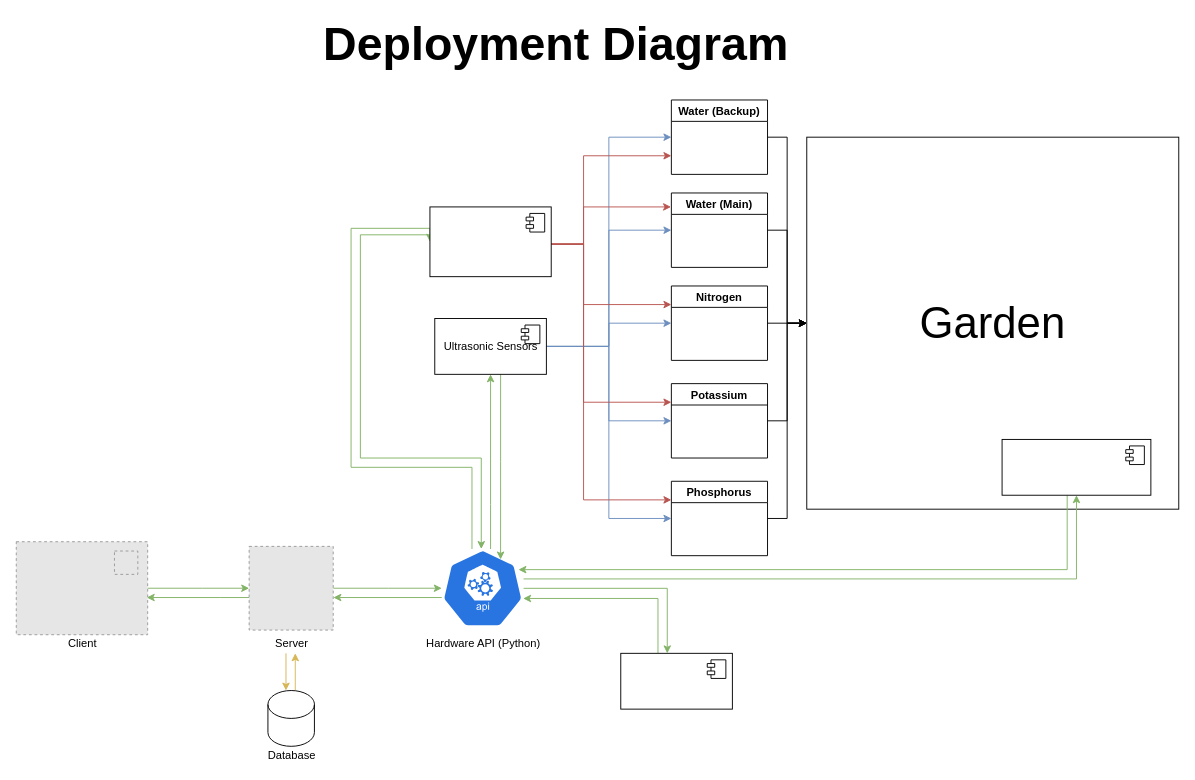
This 1195x780 diagram has some shape labels left out. Grey dashed boxes stand in for pictures. The centre of each missing label's shape, as x and y in pixels:
"8-Channel Relay (5v)" goes at point (490, 241).
"DHT11" goes at point (676, 680).
"Moisture Sensor" goes at point (1076, 466).
